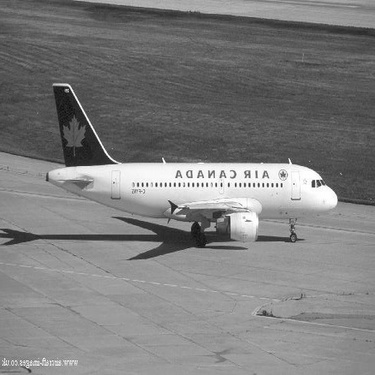airplane: (24, 74, 347, 252)
